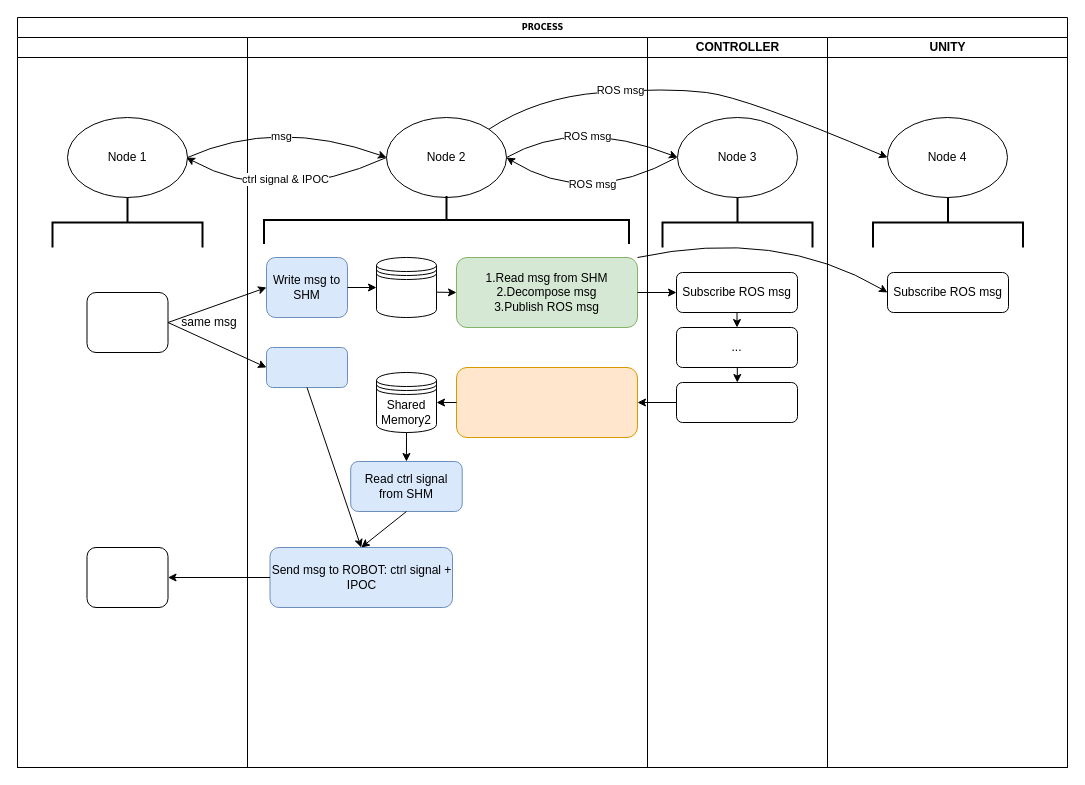
Some shapes in this 1085 by 785 pixel diagram are drawn without their labels. The box of each missing label's shape, as (x1, y1, x2, y2) in pixels:
1.Subscribe ROS msg 2.Write ctrl signal to SHM: (456, 366, 638, 438)
DATA Processor: (246, 36, 648, 768)
Extract IPOC: (266, 346, 348, 388)
Generate msg: (86, 292, 168, 352)
Publish ROS msg: (676, 382, 798, 422)
Receive msg: (86, 546, 168, 608)
ROBOT: (16, 36, 248, 768)
Shared Memory1: (376, 256, 436, 318)
